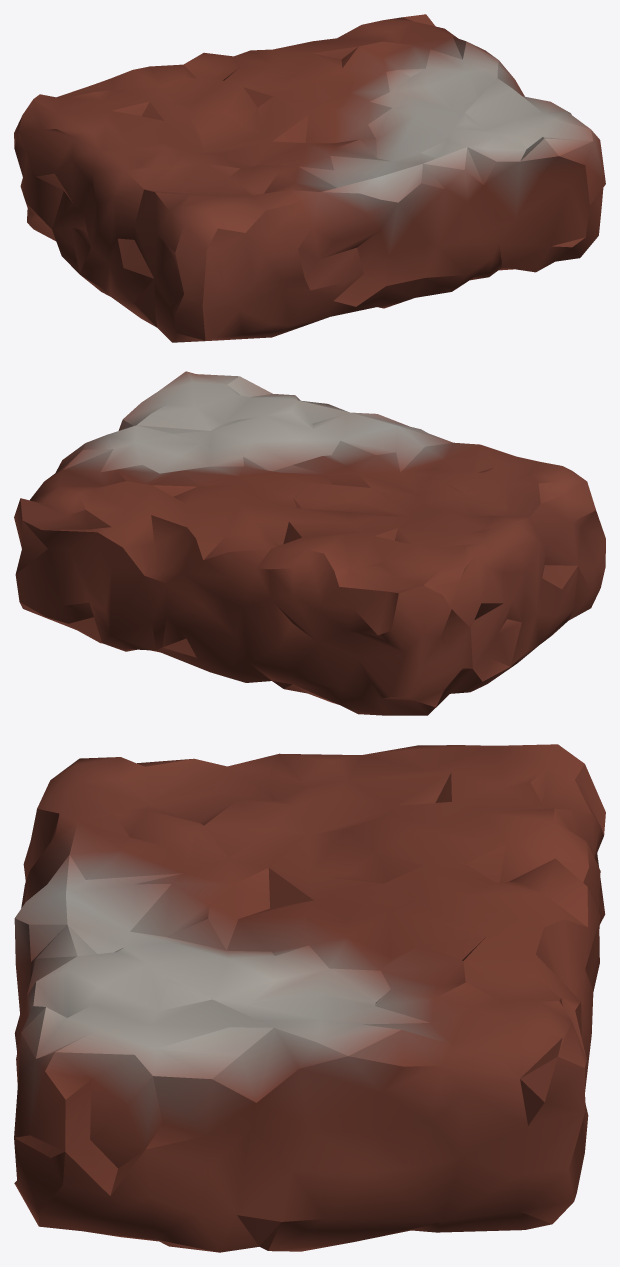
File: ember_brick_ledge.glb
3 views of the same model, one above another, from view 1: azimuth 30°, elevation 25°; view 2: azimuth 150°, elevation 25°; view 3: azimuth 270°, elevation 25° (orthographic). The views are drawn at different scales.
Visible parts, largest first — view 1: ember_brick_ledge; view 2: ember_brick_ledge; view 3: ember_brick_ledge.
Part boxes in pixels (bbox=[...]): ember_brick_ledge: bbox=[14, 14, 605, 342]; ember_brick_ledge: bbox=[14, 371, 605, 715]; ember_brick_ledge: bbox=[14, 744, 605, 1252].
Size of the model in its own units: 4.12 by 1.35 by 3.11.
